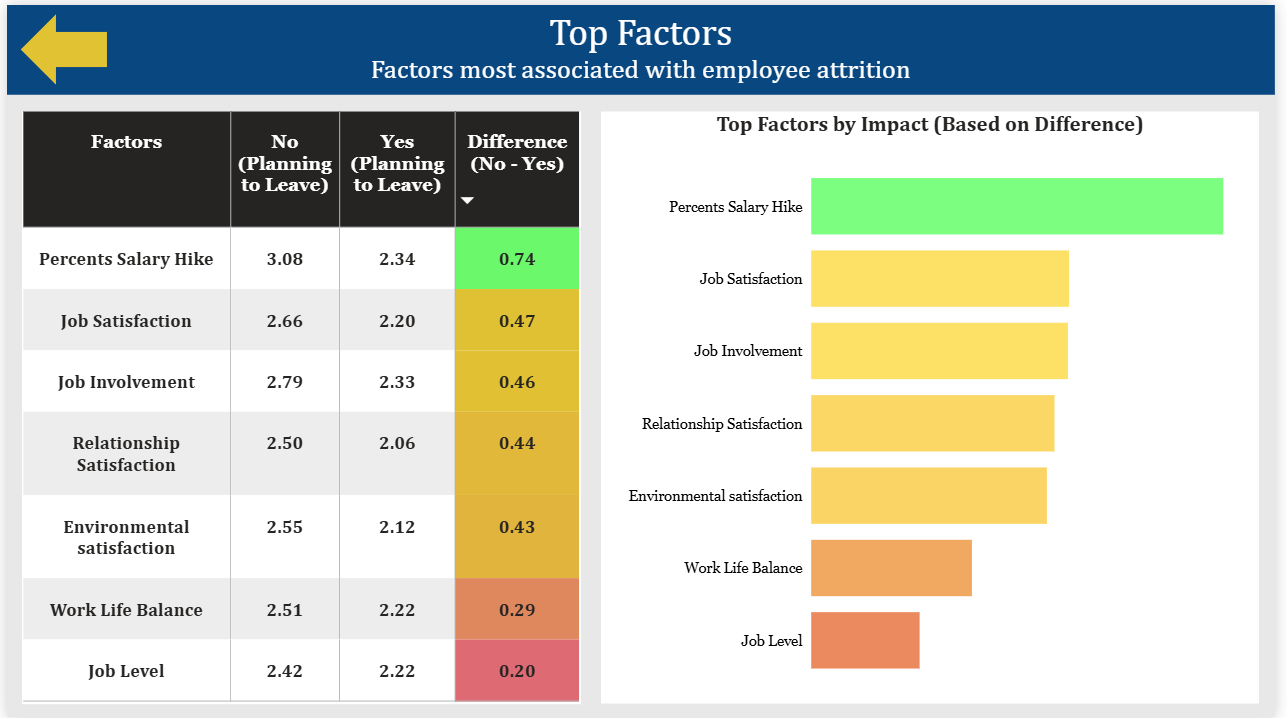

The page's visual inventory and layout, read from the dashboard file:
{"tool":"powerbi","page":{"name":"Top factors","canvas":[1280,720],"ordinal":3},"visuals":[{"type":"tableEx","fields":{"Values":["Form_Responses (3).Attribute","Form_Responses (3).Average Score No","Form_Responses (3).Average Score Yes","Form_Responses (3).Difference"]},"box":[14.5,108.1,564.5,598.4],"z":0},{"type":"barChart","title":"Top Factors by Impact (Based on Difference)","fields":{"Category":["Form_Responses (3).Attribute"],"Y":["Form_Responses (3).Difference"]},"box":[599.7,108.2,664.9,598.1],"z":1000},{"type":"textbox","box":[0,0,1280.4,90.7],"z":2000},{"type":"actionButton","box":[14.3,8.6,87.4,71.6],"z":2001}]}

Visuals, with their boxes in screenshot pixels (x1, y1, x2, y2), scaled from the page's 1280x720 canvas onto the 1287x718 screenshot:
tableEx - Form_Responses (3).Attribute x Form_Responses (3).Average Score No: <region>15, 108, 582, 705</region>
"Top Factors by Impact (Based on Difference)" barChart: <region>603, 108, 1272, 704</region>
textbox: <region>0, 0, 1286, 90</region>
actionButton: <region>14, 9, 102, 80</region>
